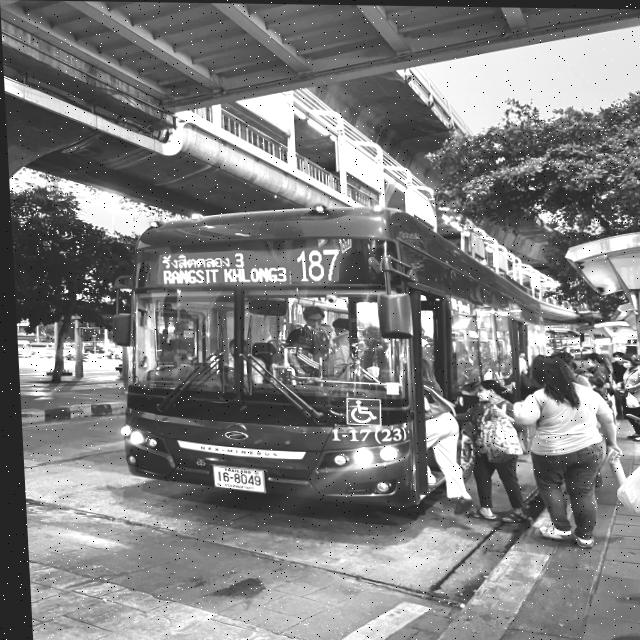Bus Line Number: (293, 245, 341, 283)
Bus Side Number: (320, 424, 405, 443)
Destination Sign: (153, 247, 292, 285)
TSB-Bus: (98, 194, 559, 524)
